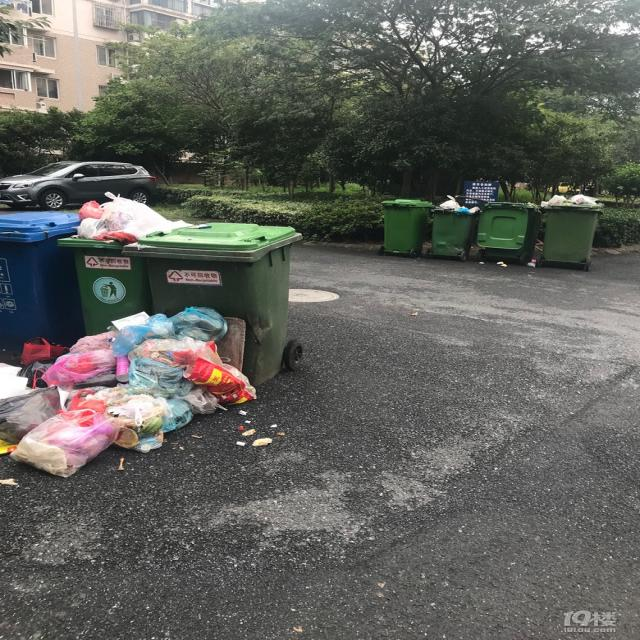garbage: (0, 306, 258, 477)
garbage_bin: (124, 221, 302, 388), (0, 211, 81, 347), (478, 202, 538, 264), (380, 198, 431, 254)
overflow: (56, 192, 191, 334), (540, 193, 604, 263), (428, 194, 478, 259)
